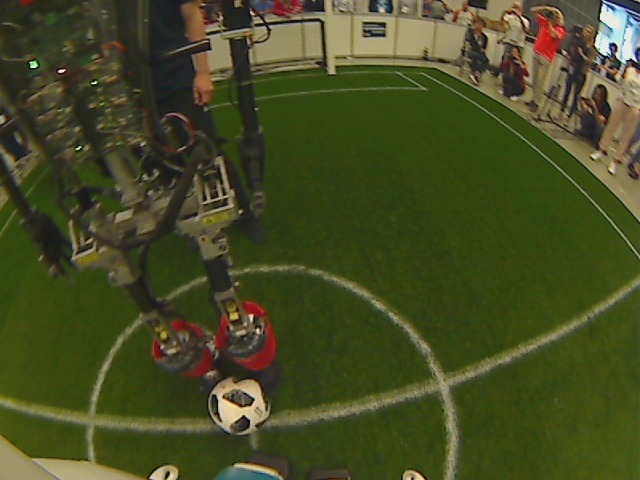ball: (203, 372, 275, 441)
